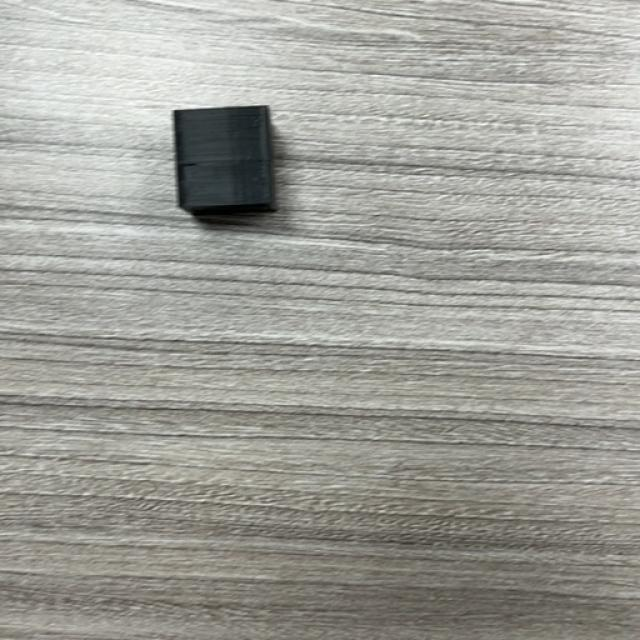Negro: (171, 106, 278, 220)
